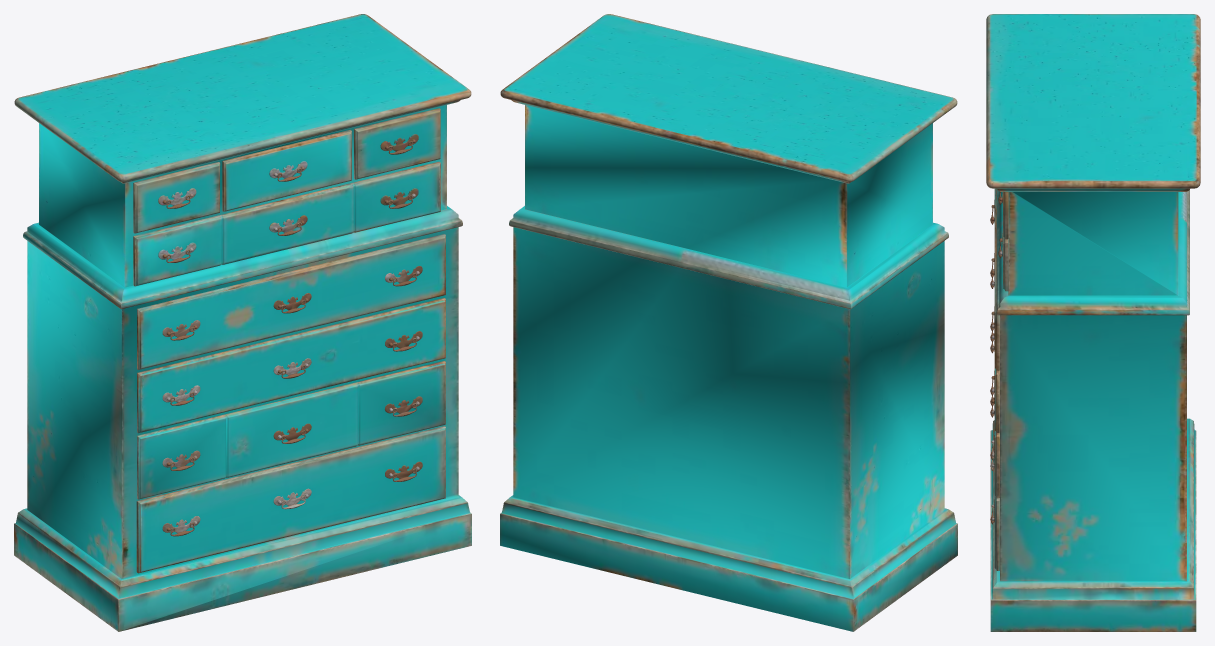
File: b627c645-cfd6-4b49-b01b-5f55bda25ef6.glb
3 views of the same model, side by side, from view 1: azimuth 30°, elevation 25°; view 2: azimuth 150°, elevation 25°; view 3: azimuth 270°, elevation 25° (orthographic).
Parts seen in each view (by area): view 1: Chest Of Drawers; view 2: Chest Of Drawers; view 3: Chest Of Drawers.
Boxes of the visible parts, x1,y1,x2,y2 form: Chest Of Drawers: (14,14,471,631); Chest Of Drawers: (500,14,957,631); Chest Of Drawers: (986,14,1200,631).
Bounding box in the file's own units: 0.902 × 1.11 × 0.4799.
Materials: 1 (1 with a texture image).
